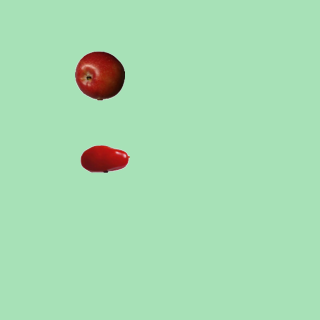Apple Braeburn: (74, 50, 124, 100)
Tomato 2: (79, 133, 129, 183)
